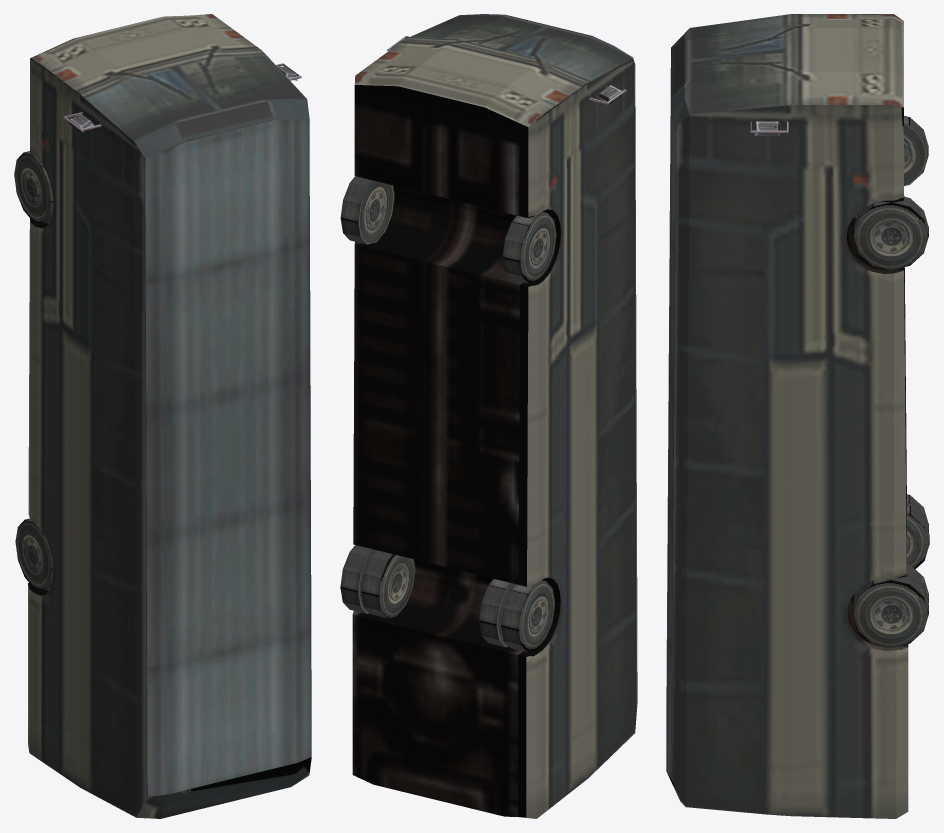
The model's file is carpack_bus_wtf.obj.
The picture shows the model from 3 angles, left to right: view 1: azimuth 30°, elevation 25°; view 2: azimuth 150°, elevation 25°; view 3: azimuth 270°, elevation 25°; orthographic projection. The views are drawn at different scales.
Visible parts, largest first — view 1: group1; view 2: group1; view 3: group1.
Part boxes in pixels (x1=…): group1: x1=14, y1=14, x2=311, y2=818; group1: x1=340, y1=14, x2=637, y2=818; group1: x1=666, y1=14, x2=929, y2=818.
Bounding box in the file's own units: 215 × 660 × 216.
